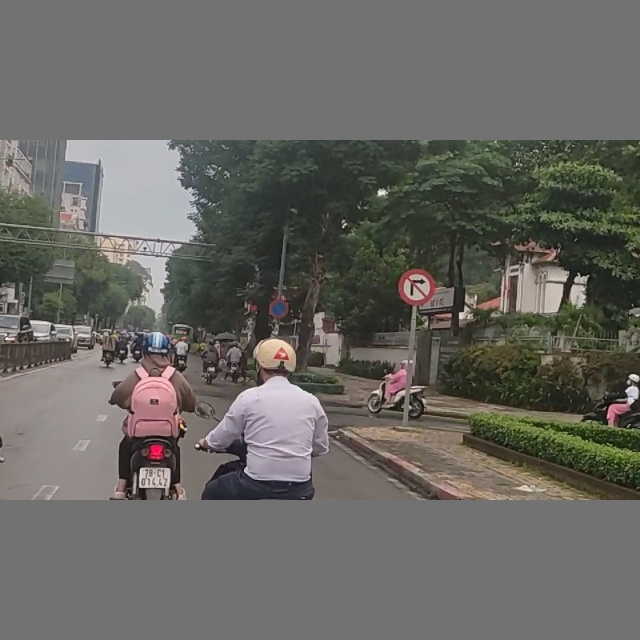P.123b: (399, 268, 435, 303)
P.131a: (270, 299, 289, 318)
